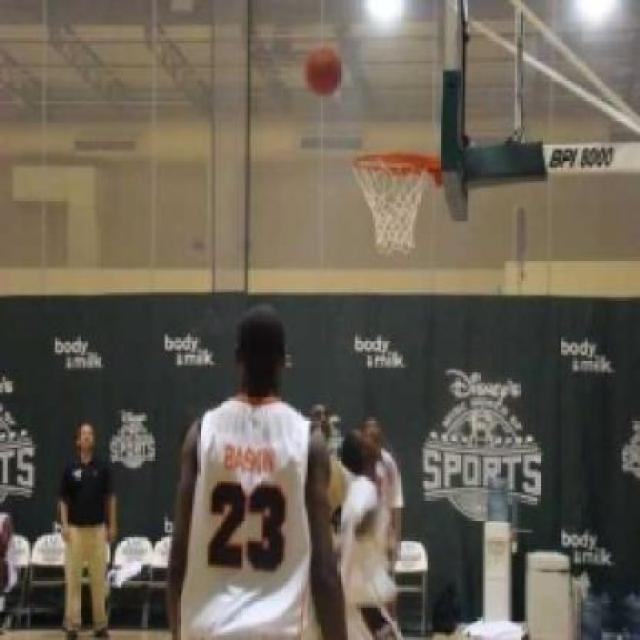basketball: (298, 46, 346, 98)
rim: (354, 150, 426, 254)
